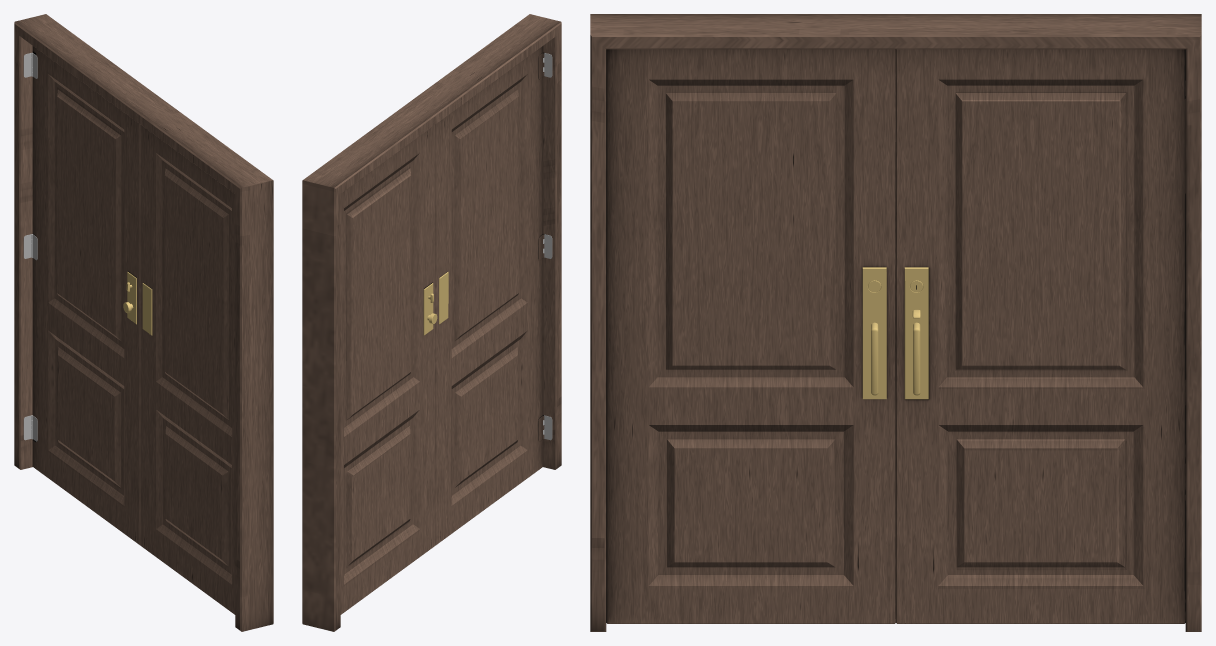
The model's file is usa_eg2.fbx.
The picture shows the model from 3 angles, left to right: view 1: azimuth 30°, elevation 25°; view 2: azimuth 150°, elevation 25°; view 3: azimuth 270°, elevation 25°; orthographic projection. The views are drawn at different scales.
Visible parts, largest first — view 1: Hinges.001, Hinges.002, Frame; view 2: Hinges.002, Hinges.001, Frame; view 3: Hinges.002, Hinges.001, Frame.
Boxes of the visible parts, x1,y1,x2,y2 form: Hinges.001: [31, 46, 140, 544]; Hinges.002: [140, 125, 235, 614]; Frame: [14, 14, 273, 631]; Hinges.002: [435, 46, 544, 544]; Hinges.001: [340, 125, 437, 614]; Frame: [302, 14, 561, 631]; Hinges.002: [606, 49, 895, 623]; Hinges.001: [896, 49, 1185, 623]; Frame: [590, 14, 1201, 631].
Bounding box in the file's own units: 16.51 × 208 × 193.
